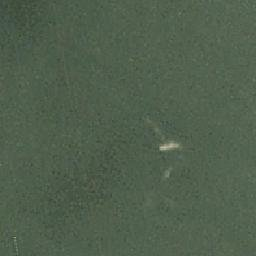debris: (159, 138, 182, 155)
